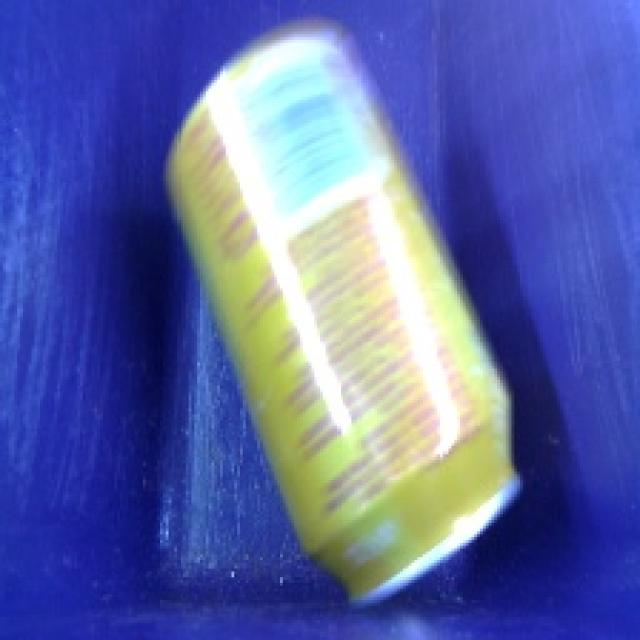metal: (148, 12, 545, 620)
